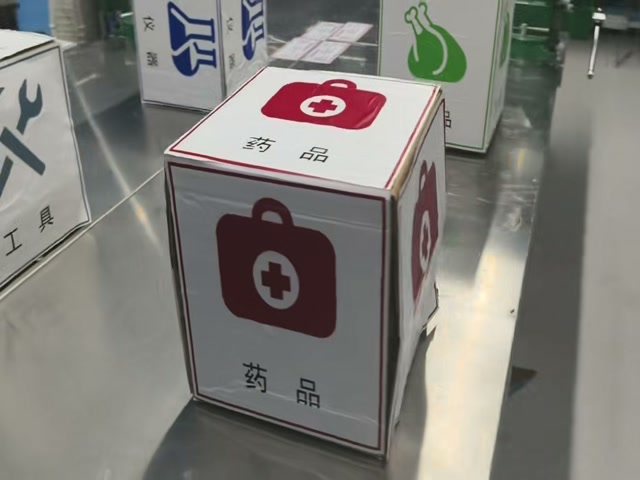Cube_medicine: (167, 68, 443, 190)
